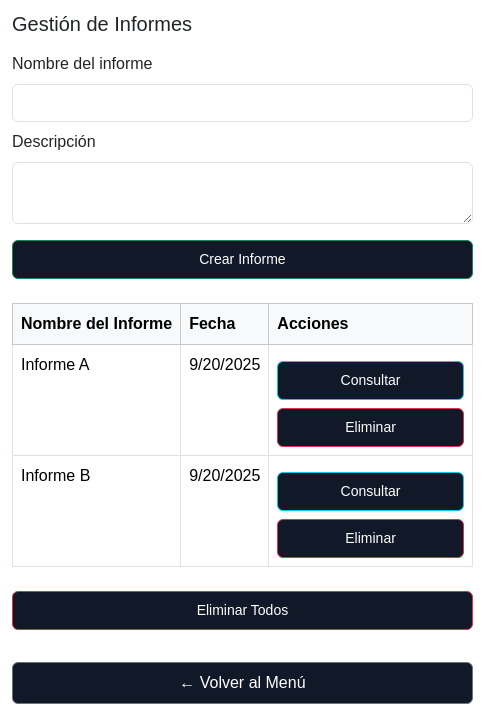
Test: GestionInformes › elimina un informe y muestra mensaje de éxito
Click the button "Eliminar" below "Informe A" at point(371, 428), box [277,408,464,447]
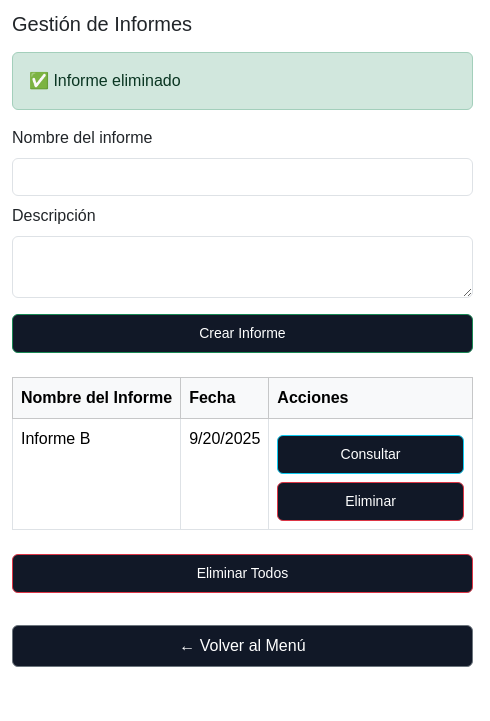
Expected: the text "✅ Informe eliminado" is shown, [12,52,473,110]
Expected: the text "Informe A" is gone
